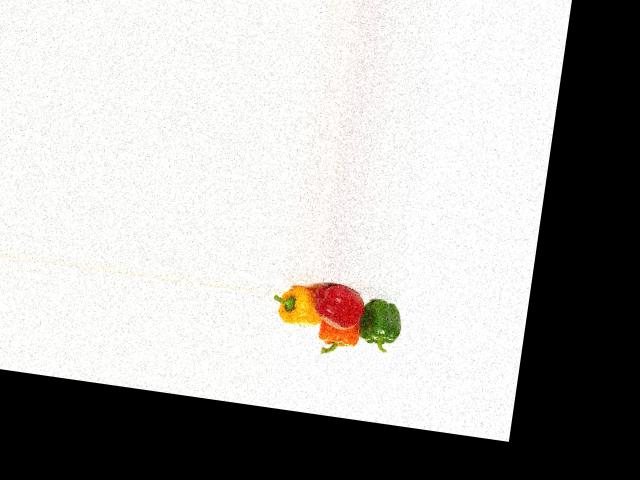bell_pepper: (353, 290, 405, 351)
